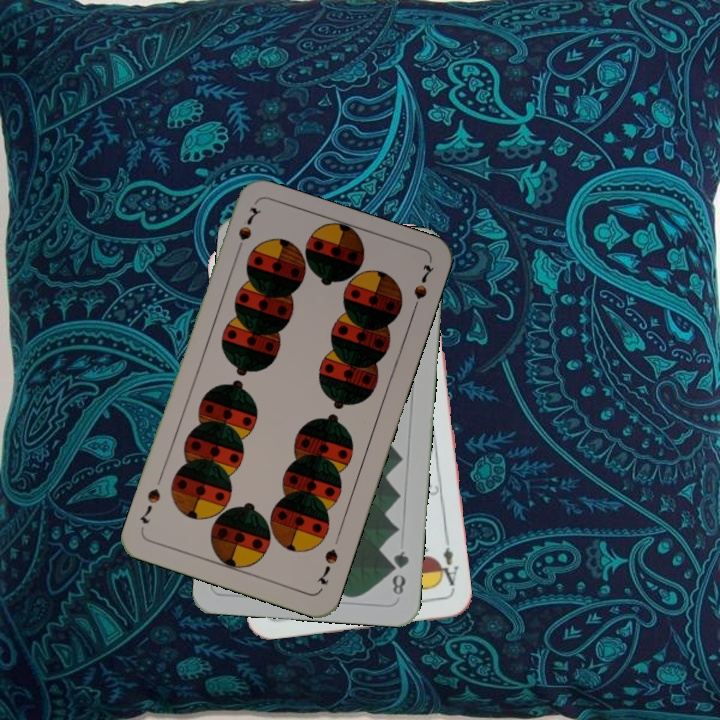EA: (433, 543, 461, 593)
G8: (387, 547, 412, 598)
S7: (231, 203, 263, 259), (312, 544, 341, 587)
